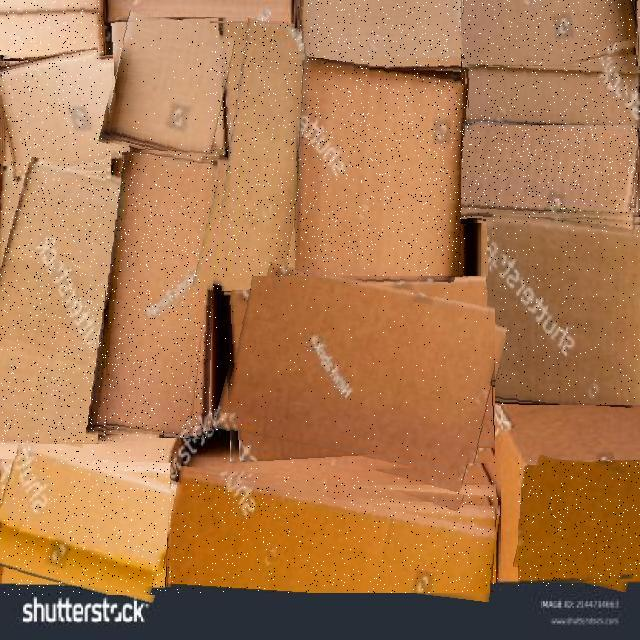BoxFace: (222, 276, 495, 478), (292, 59, 466, 295), (171, 475, 498, 593), (0, 161, 125, 444), (106, 151, 218, 438), (483, 214, 640, 405), (210, 21, 307, 293), (0, 449, 177, 595), (103, 17, 226, 163), (461, 125, 640, 224), (518, 460, 640, 586), (461, 0, 640, 85), (0, 49, 116, 176), (466, 66, 640, 136), (298, 0, 466, 69), (0, 0, 103, 59)
